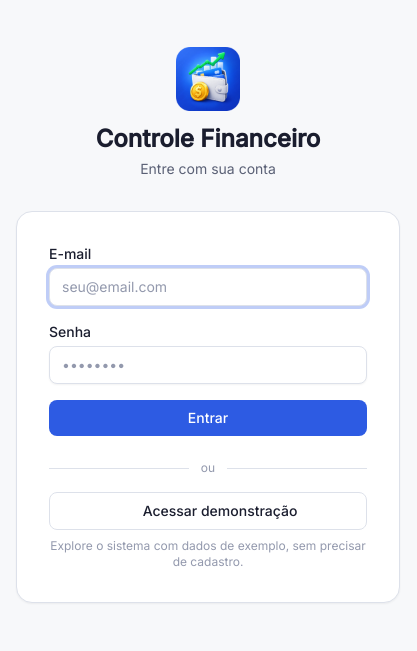
Test: Login › resposta sem tokens mostra "Credenciais inválidas."
In the field labelled "E-mail": (208, 287) [49,268,367,306], type "ana@exemplo.com"
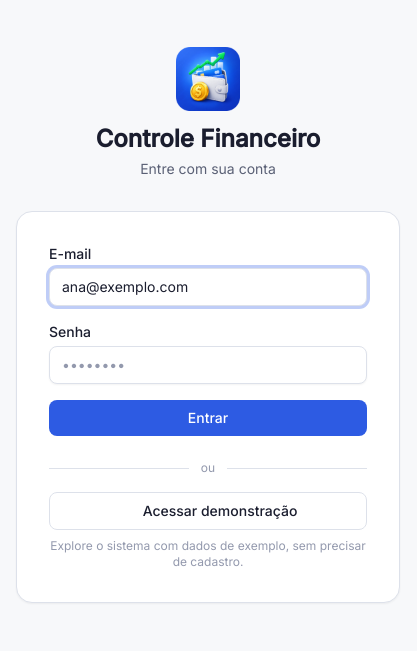
In the password field labelled "Senha": (208, 365) [49,346,367,384], type "segredo1"
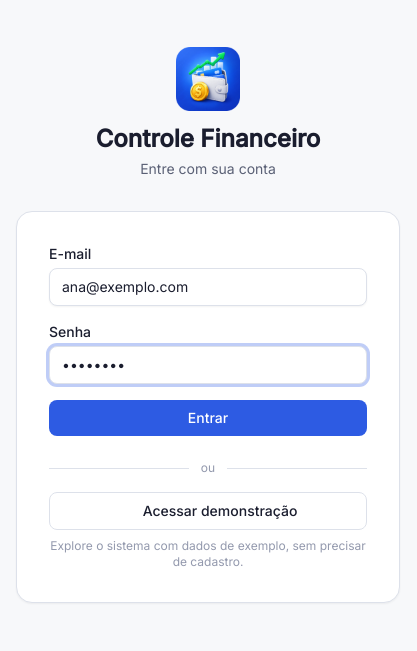
Click the button "Entrar": (208, 418) [49,400,367,436]
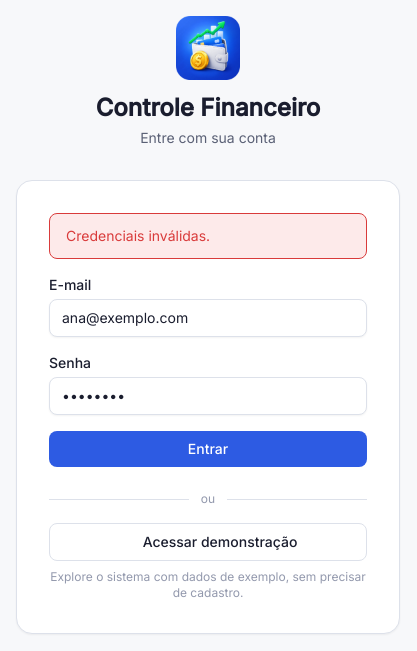
expect the button "Entrar" is enabled: met, box [49,431,367,467]
expect the text "Credenciais inválidas." is shown: met, box [49,213,367,259]
